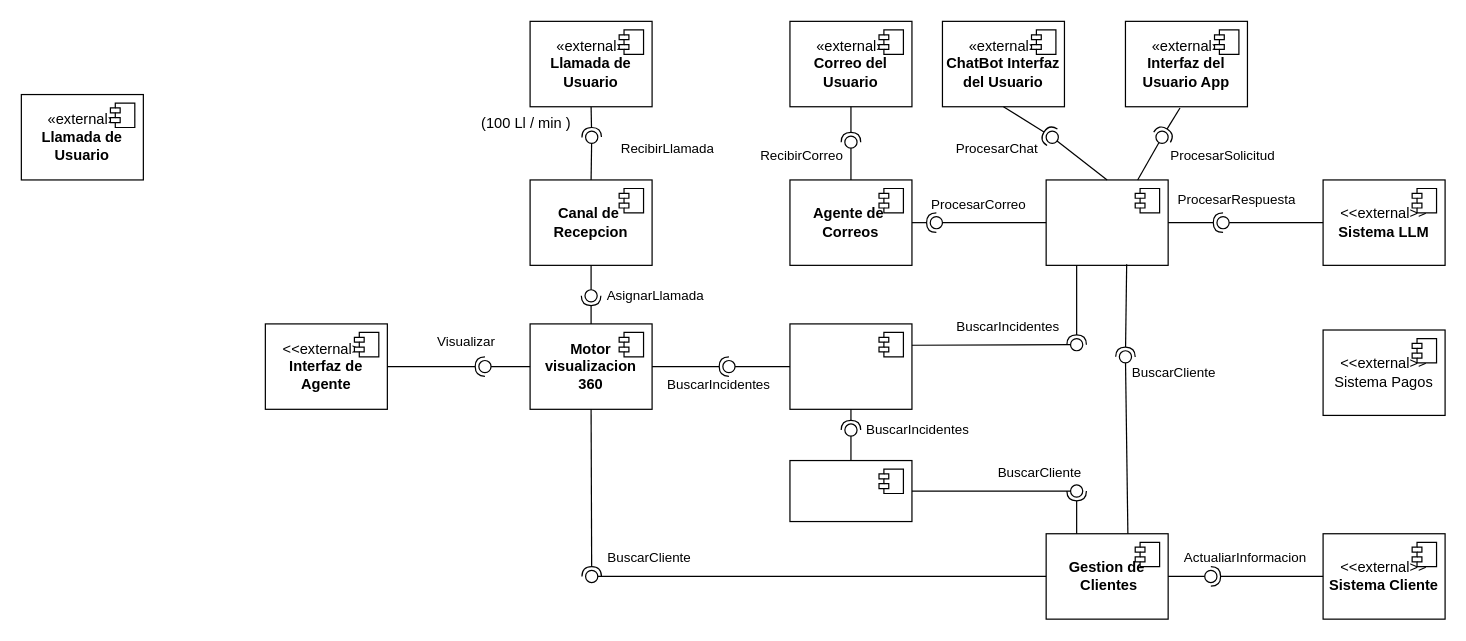
This 1466x641 diagram has some shape labels left out. The box of each missing label's shape, as (x1, y1, x2, y2) in pixels:
Base de Datos: (789, 459, 912, 522)
Gestion de incidentes: (789, 323, 912, 409)
Sistema Experto: (1045, 179, 1168, 265)
